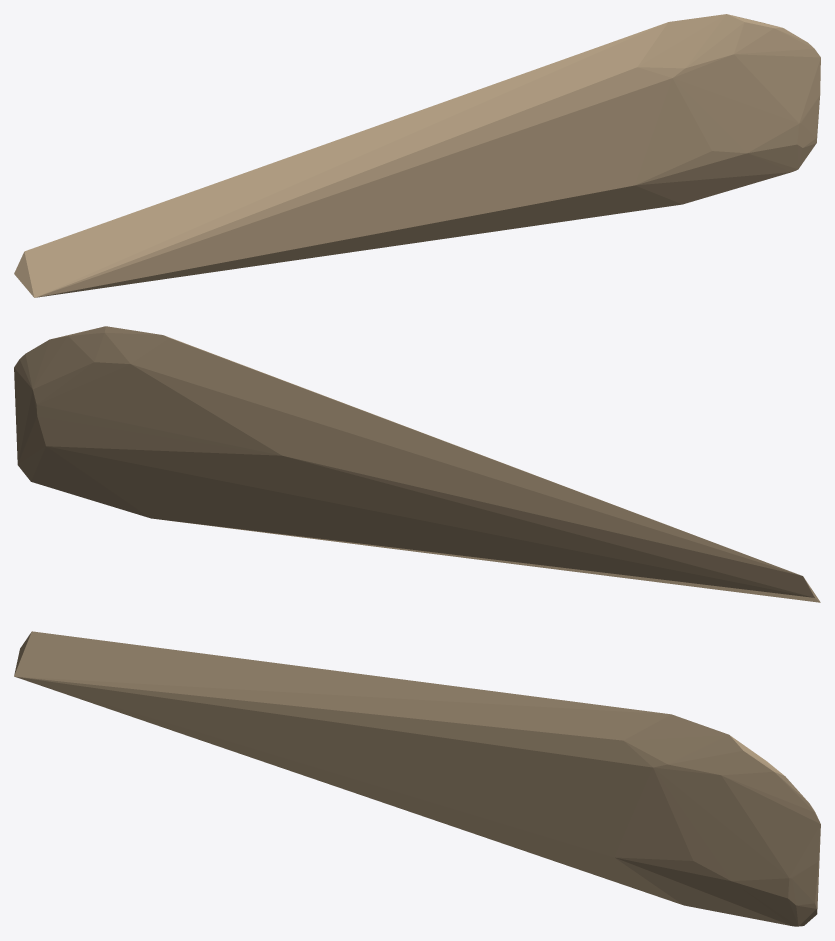
Rendered from utensil_spatula_silicone_a01.glb.
The picture shows the model from 3 angles, top to bottom: view 1: azimuth 30°, elevation 25°; view 2: azimuth 150°, elevation 25°; view 3: azimuth 330°, elevation 25°; orthographic projection.
Parts seen in each view (by area): view 1: geometry_0; view 2: geometry_0; view 3: geometry_0.
Part boxes in pixels (box(x1,y1,x2,y2)): geometry_0: box(14, 14, 820, 297); geometry_0: box(14, 326, 820, 602); geometry_0: box(14, 631, 820, 926).
Bounding box in the file's own units: 0.4743 × 0.105 × 0.0221.
